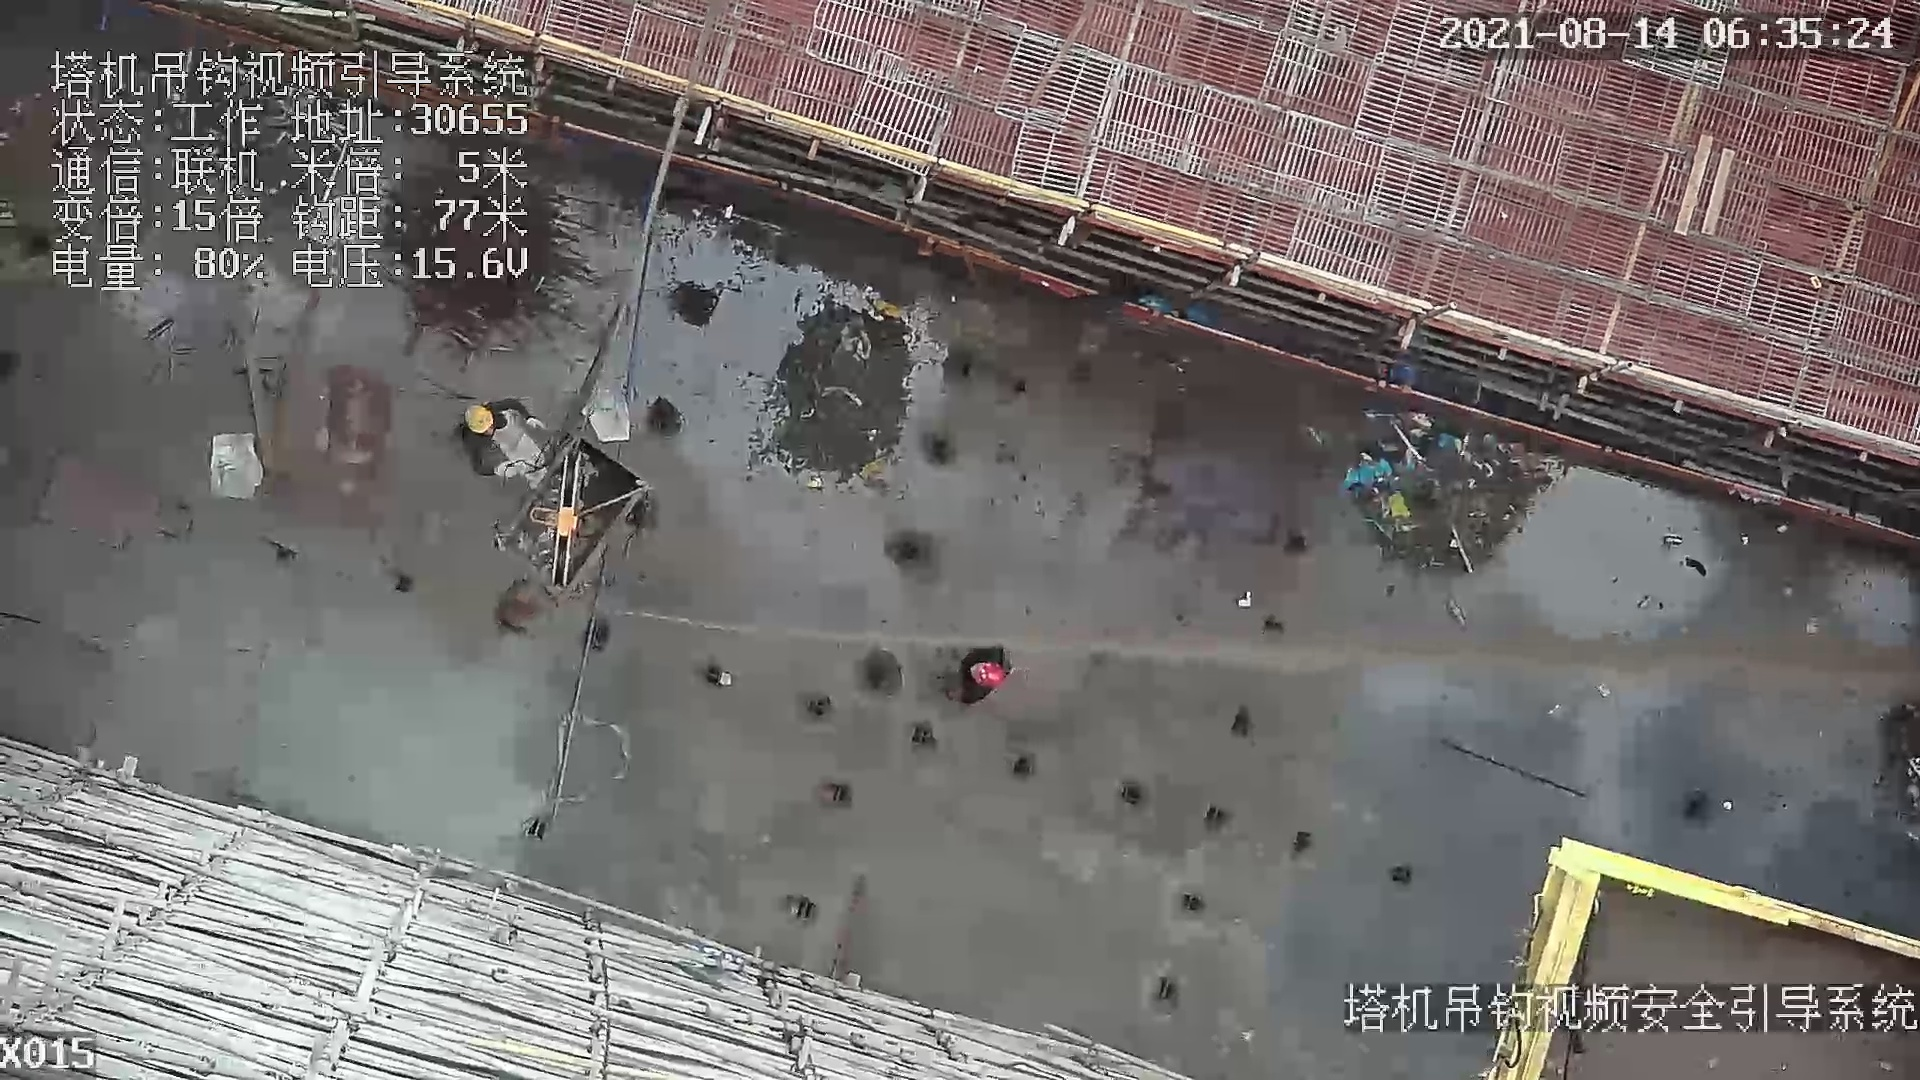helmet: (976, 660, 1009, 696), (464, 403, 500, 436)
hook: (531, 449, 577, 589)
hopper: (494, 444, 662, 627)
person: (459, 386, 546, 476), (945, 635, 1020, 709)
